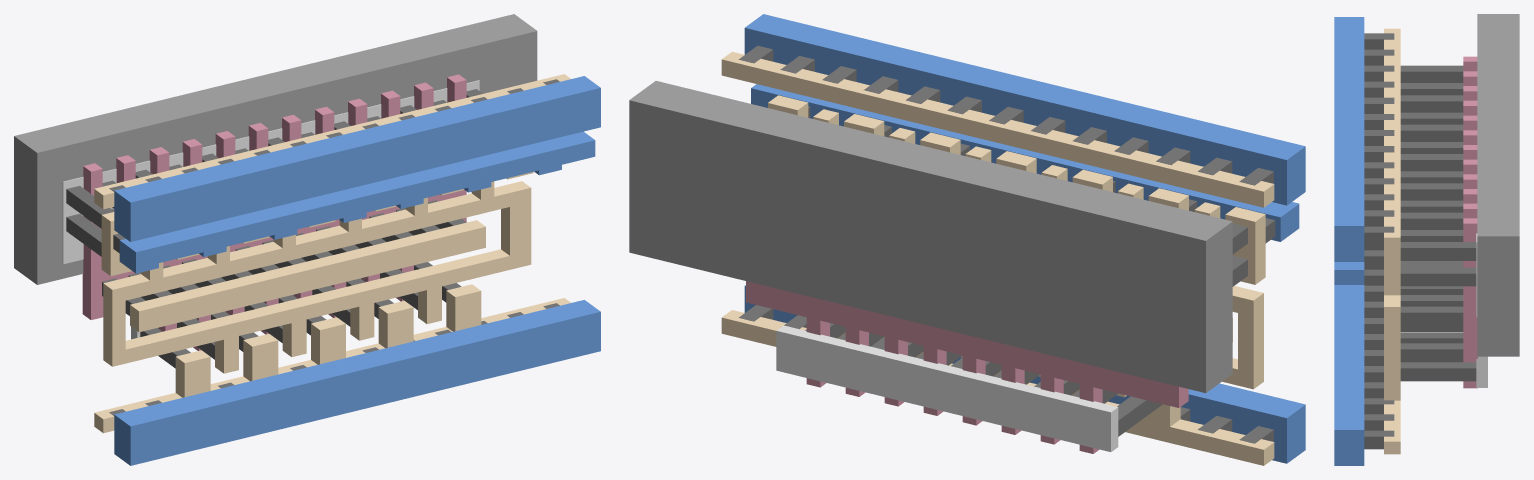
Rendered from sky130_fd_sc_hd__lpflow_clkinvkapwr_8.gds.gltf.
The picture shows the model from 3 angles, left to right: view 1: azimuth 30°, elevation 25°; view 2: azimuth 150°, elevation 25°; view 3: azimuth 270°, elevation 25°; orthographic projection. The views are drawn at different scales.
Visible parts, largest first — view 1: sky130_fd_sc_hd__lpflow_clkinvkapwr_8_met1, sky130_fd_sc_hd__lpflow_clkinvkapwr_8_li1, sky130_fd_sc_hd__lpflow_clkinvkapwr_8_nwell, sky130_fd_sc_hd__lpflow_clkinvkapwr_8_poly, sky130_fd_sc_hd__lpflow_clkinvkapwr_8_licon, sky130_fd_sc_hd__lpflow_clkinvkapwr_8_diff, sky130_fd_sc_hd__lpflow_clkinvkapwr_8_mcon; view 2: sky130_fd_sc_hd__lpflow_clkinvkapwr_8_nwell, sky130_fd_sc_hd__lpflow_clkinvkapwr_8_met1, sky130_fd_sc_hd__lpflow_clkinvkapwr_8_li1, sky130_fd_sc_hd__lpflow_clkinvkapwr_8_diff, sky130_fd_sc_hd__lpflow_clkinvkapwr_8_poly, sky130_fd_sc_hd__lpflow_clkinvkapwr_8_mcon, sky130_fd_sc_hd__lpflow_clkinvkapwr_8_licon; view 3: sky130_fd_sc_hd__lpflow_clkinvkapwr_8_licon, sky130_fd_sc_hd__lpflow_clkinvkapwr_8_nwell, sky130_fd_sc_hd__lpflow_clkinvkapwr_8_met1, sky130_fd_sc_hd__lpflow_clkinvkapwr_8_mcon, sky130_fd_sc_hd__lpflow_clkinvkapwr_8_li1, sky130_fd_sc_hd__lpflow_clkinvkapwr_8_poly, sky130_fd_sc_hd__lpflow_clkinvkapwr_8_diff.
Boxes of the visible parts, bbox=[...] form: sky130_fd_sc_hd__lpflow_clkinvkapwr_8_met1: bbox=[114, 76, 600, 465]; sky130_fd_sc_hd__lpflow_clkinvkapwr_8_li1: bbox=[94, 74, 570, 433]; sky130_fd_sc_hd__lpflow_clkinvkapwr_8_nwell: bbox=[14, 14, 537, 284]; sky130_fd_sc_hd__lpflow_clkinvkapwr_8_poly: bbox=[82, 74, 466, 350]; sky130_fd_sc_hd__lpflow_clkinvkapwr_8_licon: bbox=[66, 89, 482, 368]; sky130_fd_sc_hd__lpflow_clkinvkapwr_8_diff: bbox=[62, 80, 479, 339]; sky130_fd_sc_hd__lpflow_clkinvkapwr_8_mcon: bbox=[109, 79, 559, 415]; sky130_fd_sc_hd__lpflow_clkinvkapwr_8_nwell: bbox=[629, 81, 1232, 393]; sky130_fd_sc_hd__lpflow_clkinvkapwr_8_met1: bbox=[744, 14, 1305, 463]; sky130_fd_sc_hd__lpflow_clkinvkapwr_8_li1: bbox=[721, 51, 1274, 465]; sky130_fd_sc_hd__lpflow_clkinvkapwr_8_diff: bbox=[776, 325, 1118, 451]; sky130_fd_sc_hd__lpflow_clkinvkapwr_8_poly: bbox=[746, 281, 1188, 453]; sky130_fd_sc_hd__lpflow_clkinvkapwr_8_mcon: bbox=[739, 45, 1275, 443]; sky130_fd_sc_hd__lpflow_clkinvkapwr_8_licon: bbox=[805, 223, 1247, 436]; sky130_fd_sc_hd__lpflow_clkinvkapwr_8_licon: bbox=[1400, 65, 1476, 381]; sky130_fd_sc_hd__lpflow_clkinvkapwr_8_nwell: bbox=[1477, 14, 1519, 356]; sky130_fd_sc_hd__lpflow_clkinvkapwr_8_met1: bbox=[1334, 17, 1364, 465]; sky130_fd_sc_hd__lpflow_clkinvkapwr_8_mcon: bbox=[1364, 33, 1394, 449]; sky130_fd_sc_hd__lpflow_clkinvkapwr_8_li1: bbox=[1384, 28, 1400, 454]; sky130_fd_sc_hd__lpflow_clkinvkapwr_8_poly: bbox=[1463, 56, 1477, 388]; sky130_fd_sc_hd__lpflow_clkinvkapwr_8_diff: bbox=[1476, 233, 1487, 387].
Bounding box in the file's own units: 6.36 × 3.2 × 2.24.
